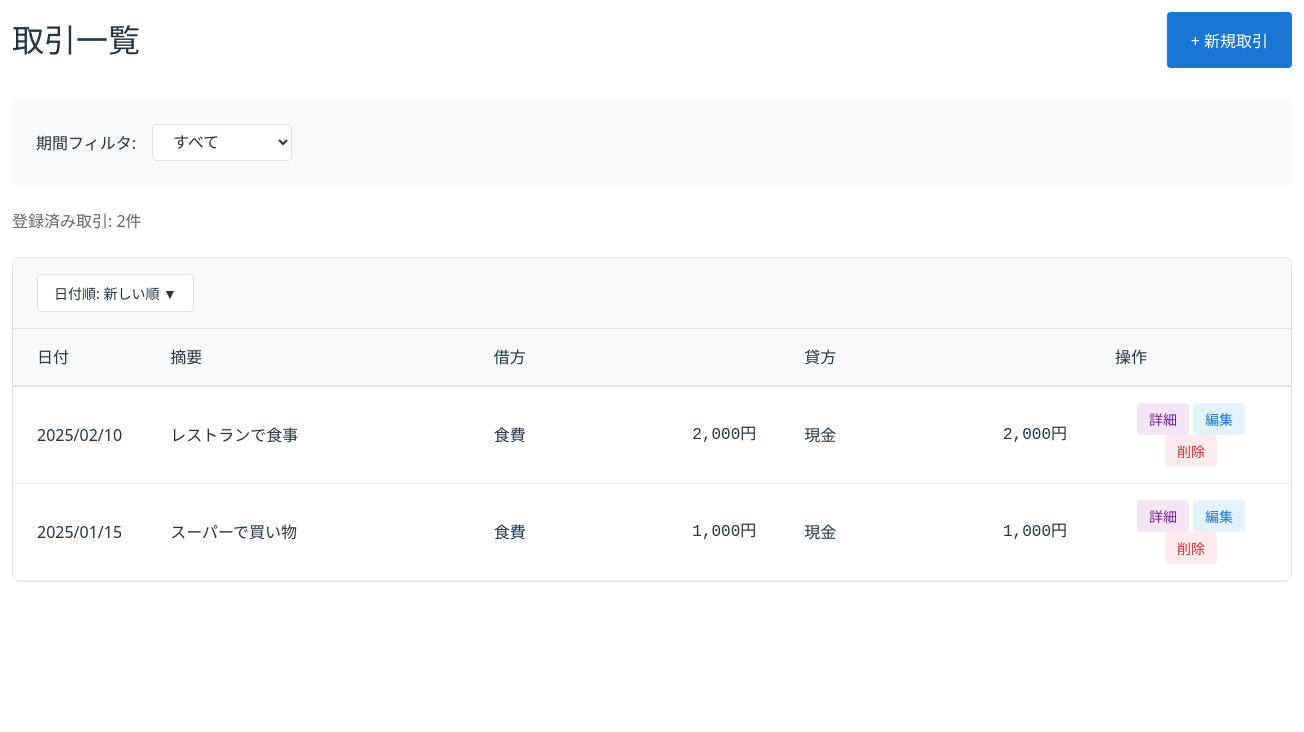
TransactionList Page › filters transactions by month
# Select January 2025
Step 1. Select "2025年01月" in the dropdown labelled "期間フィルタ:" → (222, 142), box [152,124,292,161]
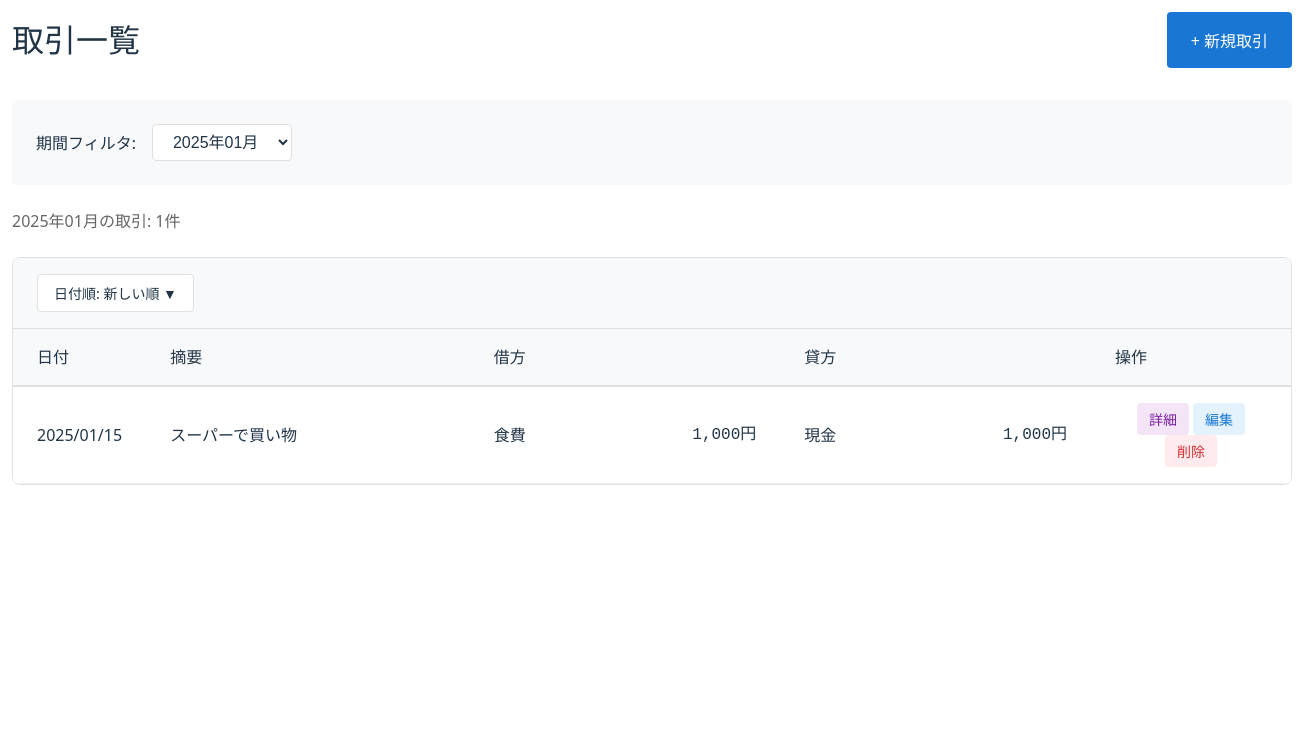
Expected: the text "スーパーで買い物" is shown, [146,386,470,484]
Expected: the text "レストランで食事" is gone
Expected: the text "2025年01月の取引: 1件" is shown, [12,210,180,232]
